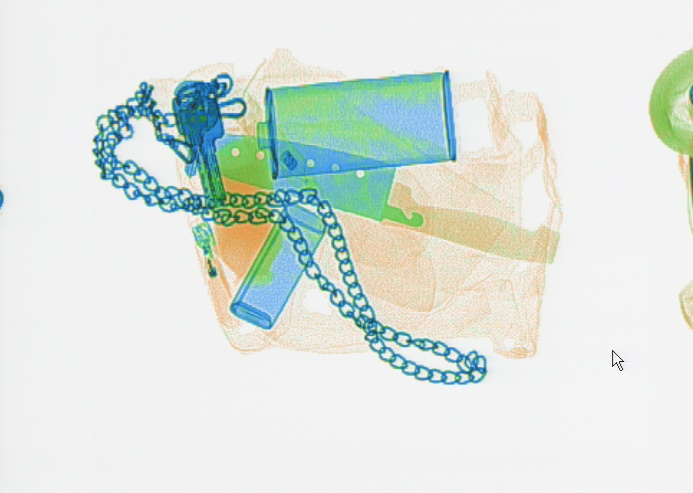knife: (177, 129, 563, 265)
lighter: (187, 216, 242, 332)
zippooil: (254, 65, 460, 181)
